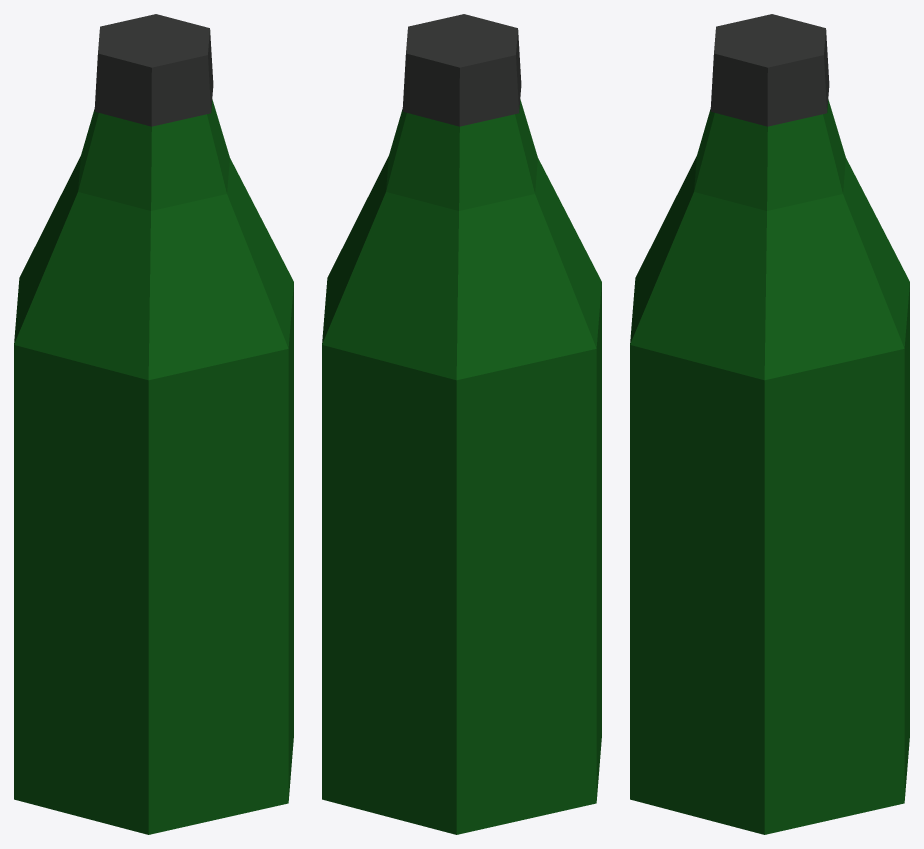
File: Laundry_Bottle2.fbx
3 renders of one model, left to right at view 1: azimuth 30°, elevation 25°; view 2: azimuth 150°, elevation 25°; view 3: azimuth 270°, elevation 25°, orthographic.
Parts seen in each view (by area): view 1: Laundry_Bottle2; view 2: Laundry_Bottle2; view 3: Laundry_Bottle2.
Part boxes in pixels (bbox=[...]): Laundry_Bottle2: bbox=[14, 14, 293, 834]; Laundry_Bottle2: bbox=[322, 14, 601, 834]; Laundry_Bottle2: bbox=[630, 14, 909, 834].
Bounding box in the file's own units: 15.31 × 13.51 × 38.73.
